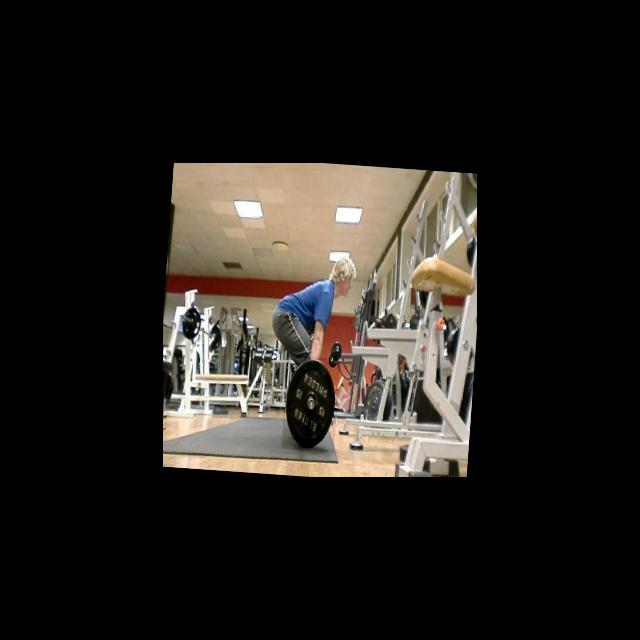barbell: (281, 355, 341, 452)
